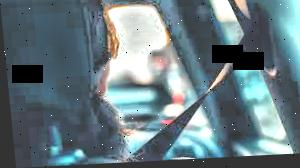seatbelt: (120, 15, 271, 162)
